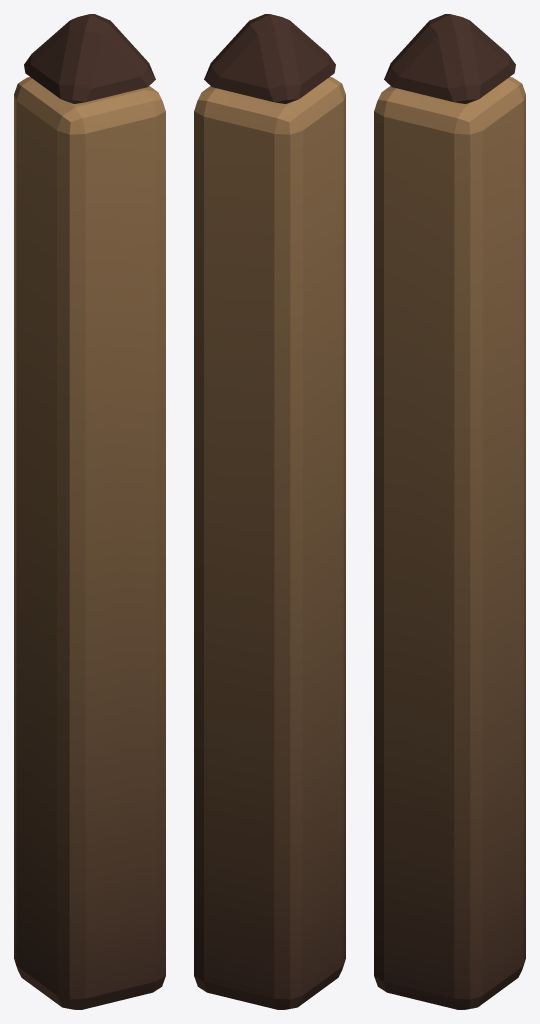
File: fence_post.glb
3 renders of one model, left to right at view 1: azimuth 30°, elevation 25°; view 2: azimuth 150°, elevation 25°; view 3: azimuth 330°, elevation 25°, orthographic.
Parts seen in each view (by area): view 1: FencePost; view 2: FencePost; view 3: FencePost.
Part boxes in pixels (x1=…): FencePost: x1=14, y1=14, x2=165, y2=1009; FencePost: x1=194, y1=14, x2=345, y2=1009; FencePost: x1=374, y1=14, x2=525, y2=1009.
Bounding box in the file's own units: 0.13 × 1.13 × 0.13.
